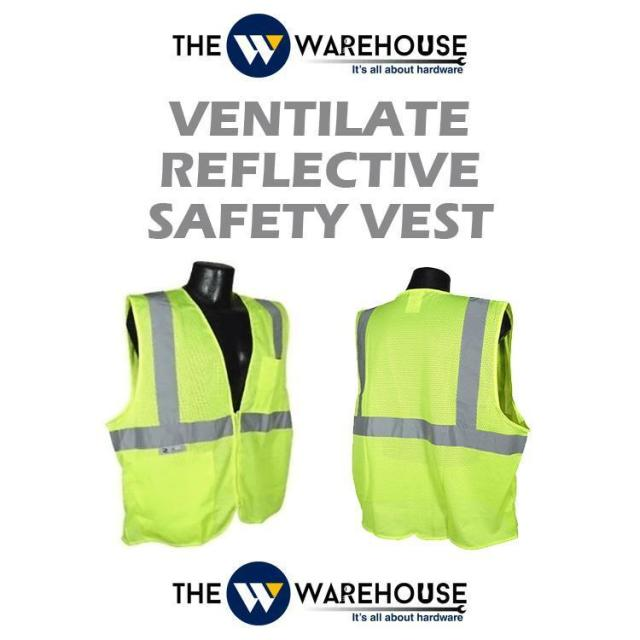Vest: (105, 287, 292, 545), (352, 284, 528, 553)
